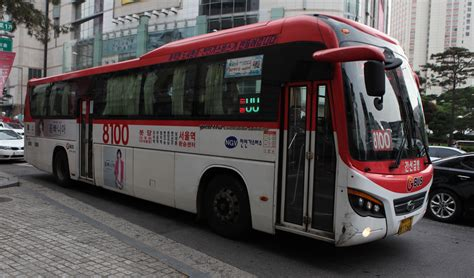bus: (27, 27, 430, 243)
